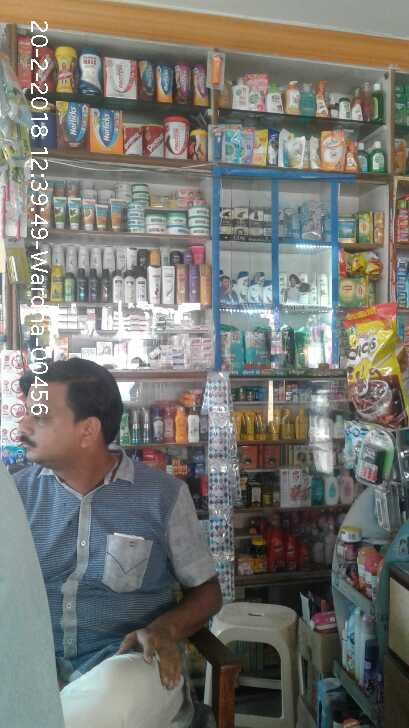ambipureVesus: (345, 421, 365, 470)
venus: (303, 201, 329, 240), (283, 207, 303, 240)
